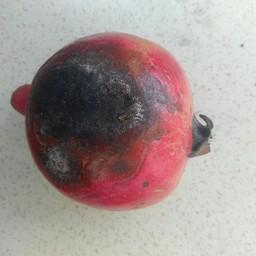Bad_pomegranate: (10, 33, 211, 220)
